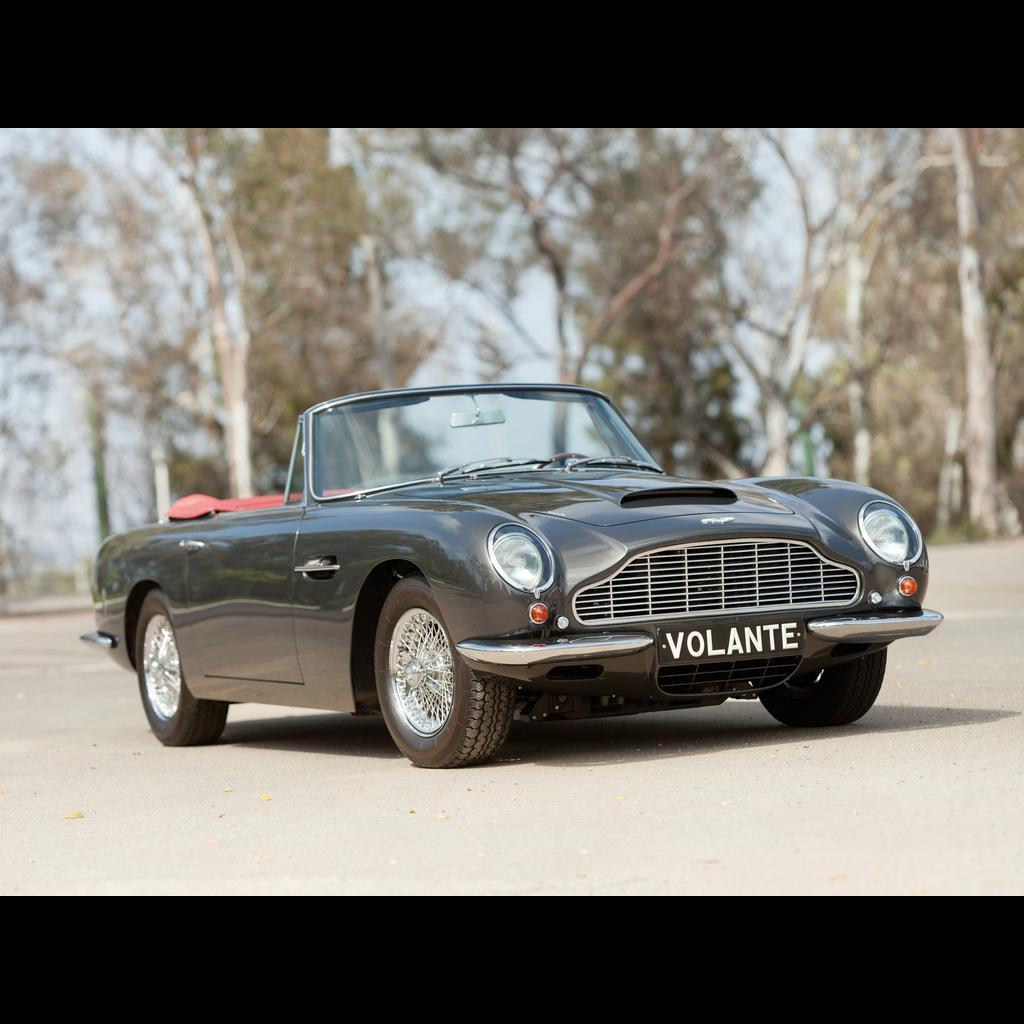aero: (292, 553, 339, 580)
bodysurface: (176, 516, 350, 723)
coupe-convertible: (79, 383, 942, 770)
fender: (343, 501, 498, 614), (113, 518, 203, 617)
frontbumper: (454, 605, 942, 684)
grill: (570, 537, 860, 627)
headlamp: (484, 520, 555, 592), (857, 499, 923, 567)
hood: (380, 467, 815, 528)
opening: (619, 488, 737, 506)
rearbumper: (78, 627, 114, 652)
wheel: (387, 606, 453, 734), (141, 613, 179, 718)
